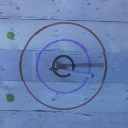Axe Tip: (55, 67, 68, 69)
